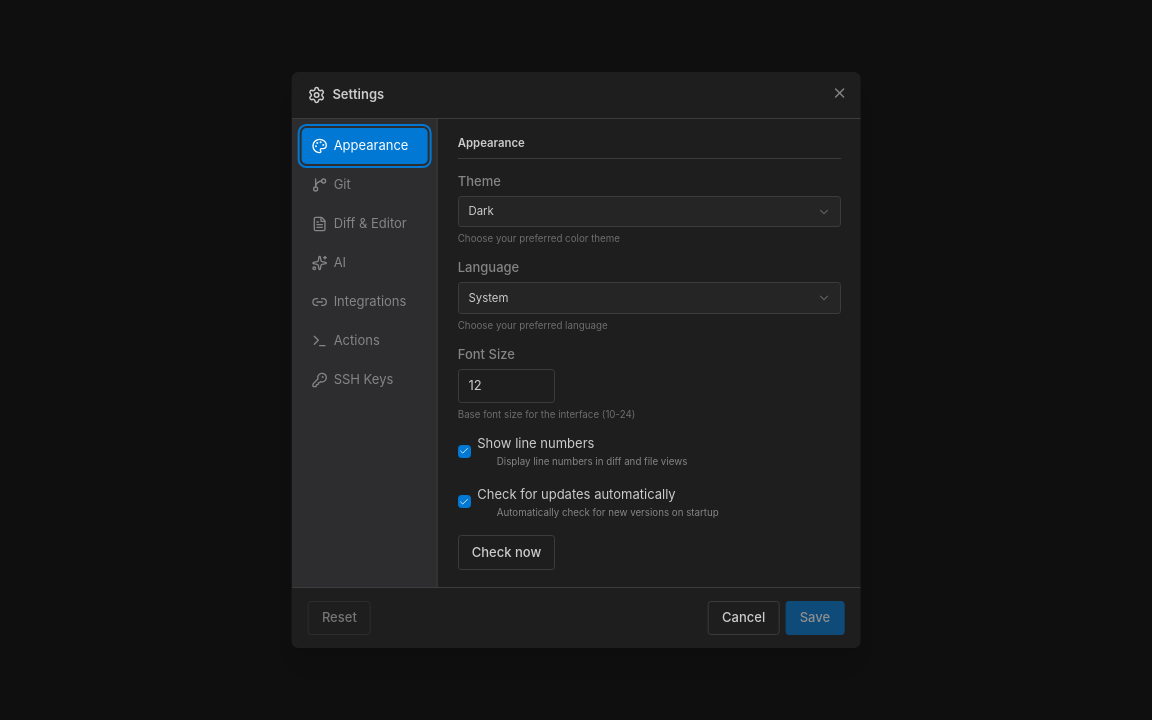
SettingsDialog › should show error when save fails
// Wait for the Theme select to be available (ensures dialog content is fully rendered)
Click the dropdown named "Theme" at (481,211), box [457,196,841,227]
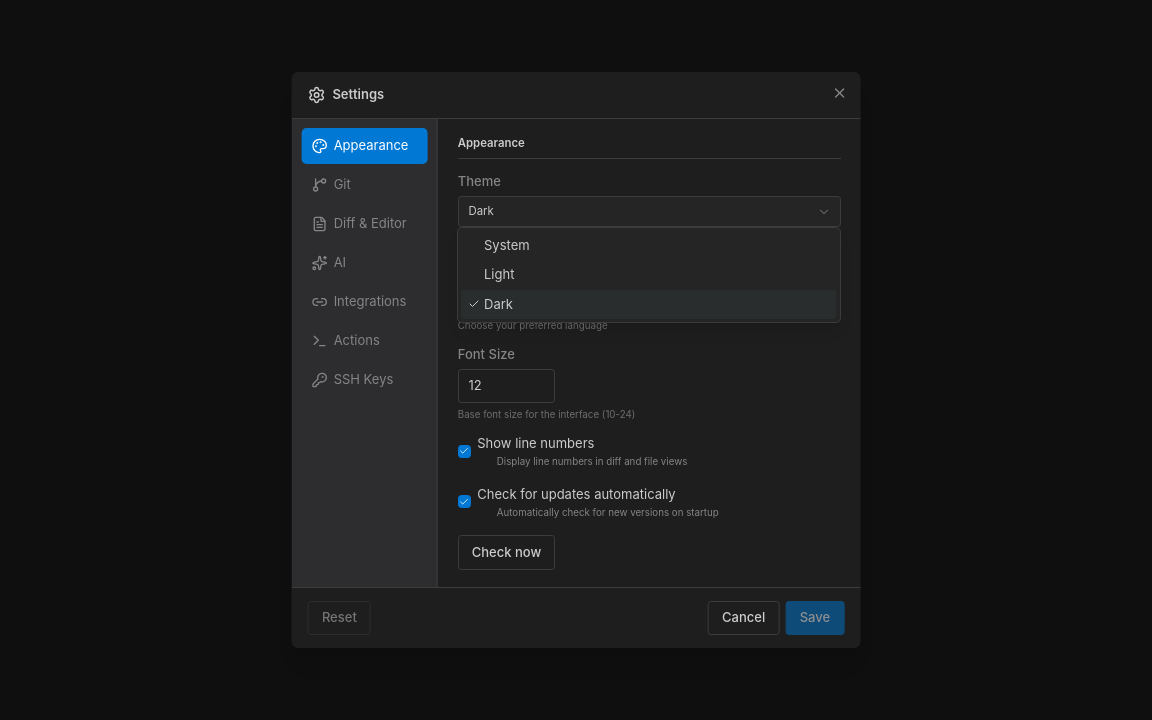
Click the option "Light" at (499,274), box [484,266,514,282]
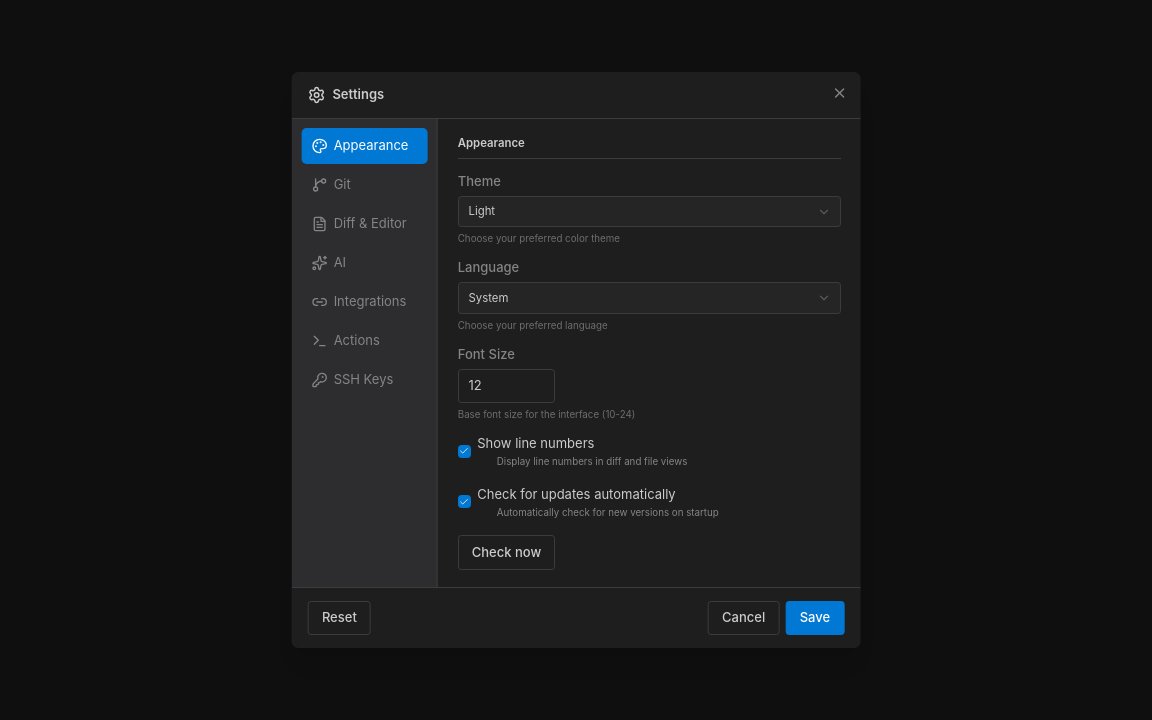
// Click save
Click the button "Save" at (815,618), box [786,600,844,635]
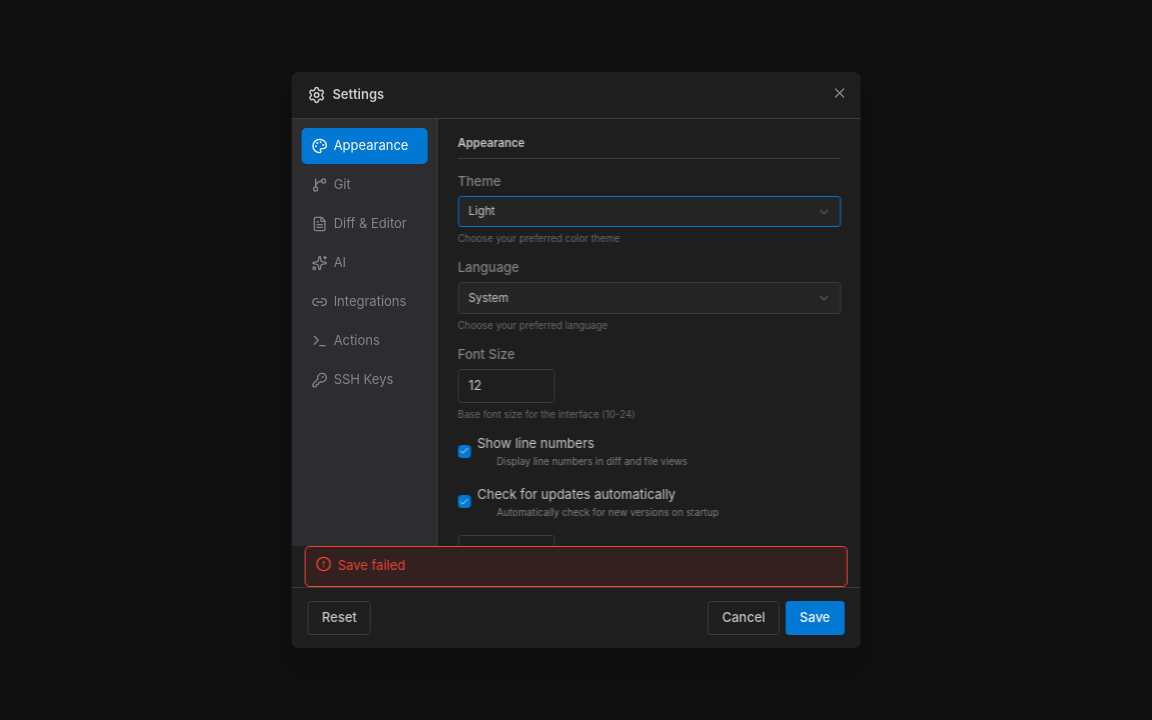
Now the text "Save failed" is shown, box [338,556,405,576]
